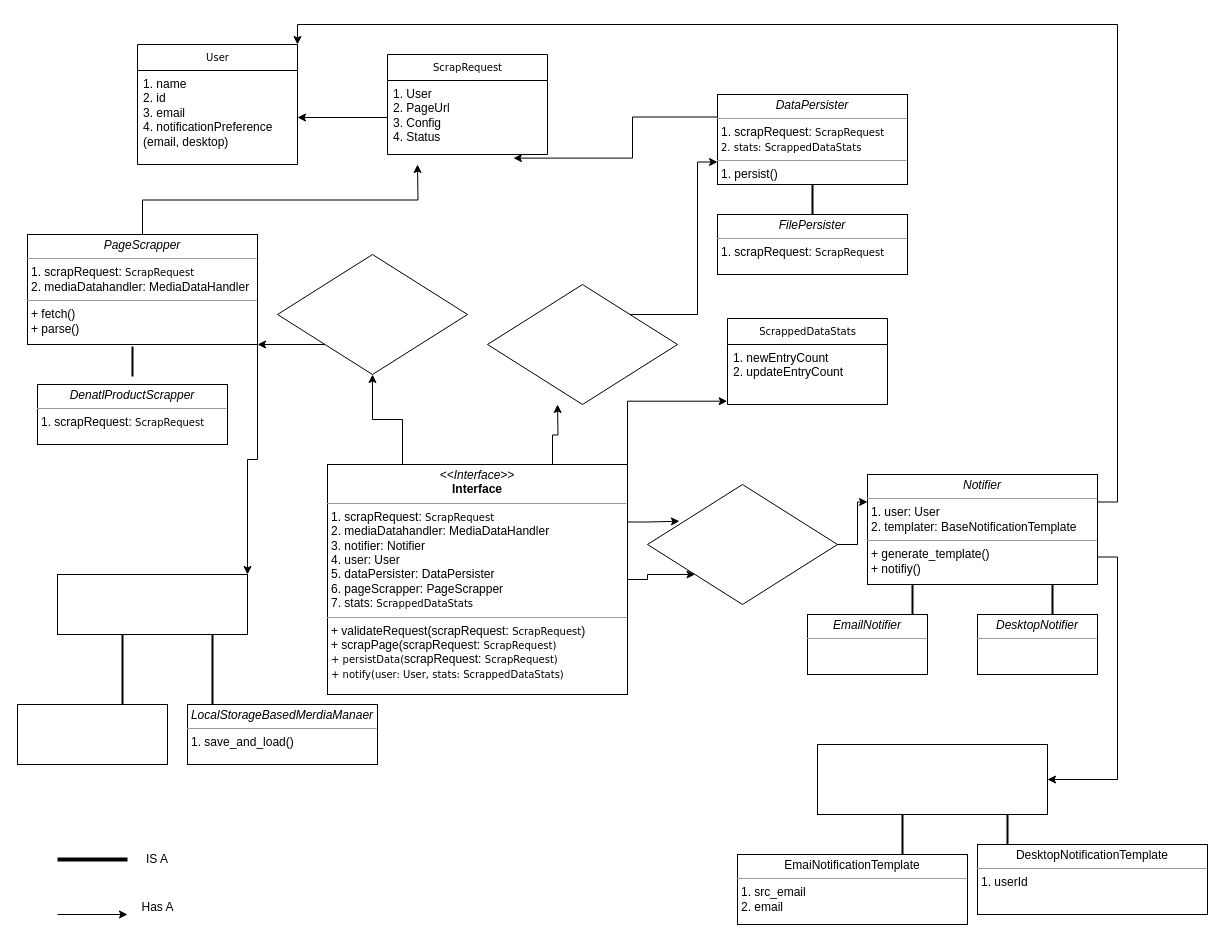
The diagram is 1225 pixels wide and 942 high, and some of its shapes have lost their labels. The centre of each missing label's shape, as x and y in pixels:
"BaseNotificationTemplate 1. header 2. body" goes at (932,779).
"generatePageScrapper ( scrapRequest)" goes at (372,314).
"genrateData Persistor( scrapRequest)" goes at (582,344).
"genrateNotifer( user: Usert)" goes at (742,544).
"MediaDataManager 1. save_and_load()" goes at (152,604).
"S3MediaDataManager 1. save_and_load()" goes at (92,734).
